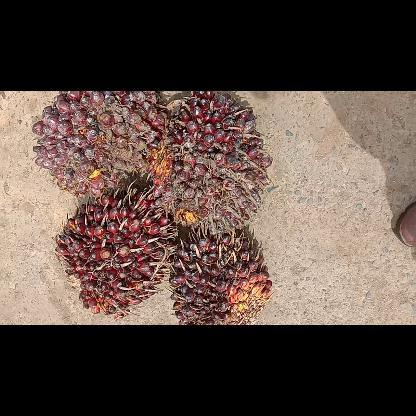Kurang masak: (146, 91, 274, 238), (51, 180, 175, 318)
TBS mentah: (28, 91, 166, 200), (167, 224, 275, 324)
